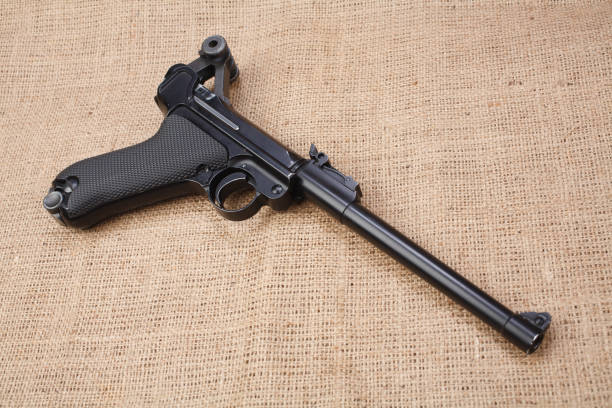gun: (44, 34, 552, 353)
